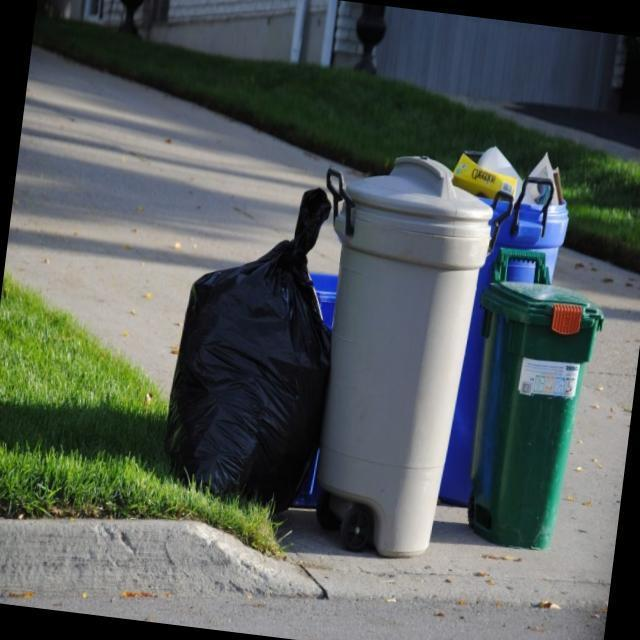garbage: (154, 172, 355, 526), (440, 132, 572, 224)
